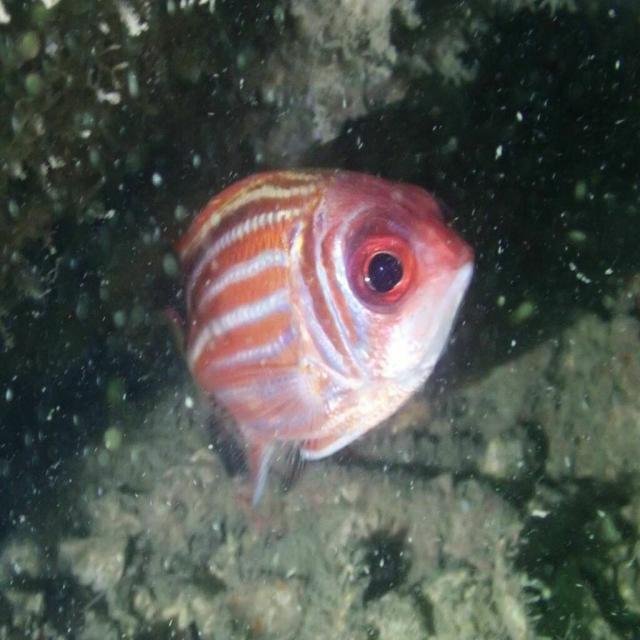Asker Baligi: (154, 125, 497, 521)
